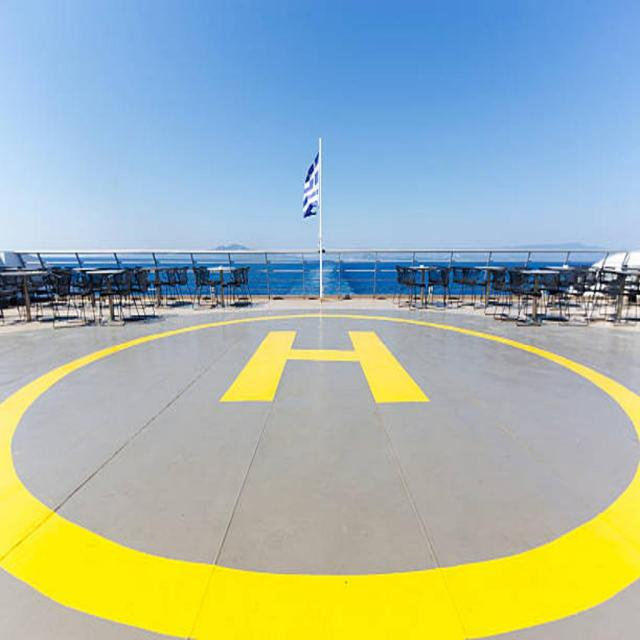helipad: (0, 310, 639, 640)
